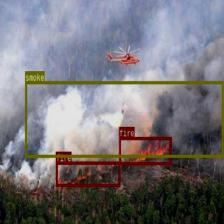fire: (55, 161, 120, 186), (119, 137, 171, 164)
smoke: (25, 81, 223, 157)
